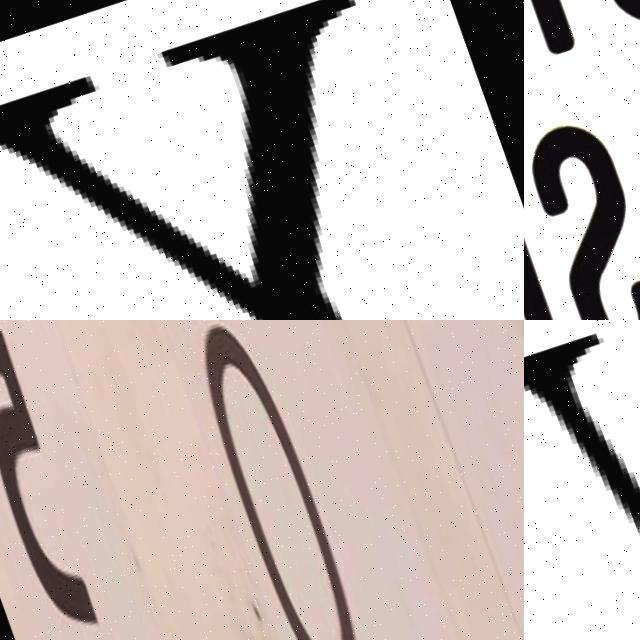0: (165, 320, 395, 640)
5: (0, 320, 119, 640)
F: (524, 141, 587, 320)
N: (524, 320, 640, 640)
S: (524, 101, 640, 320)
Y: (0, 0, 524, 320)
